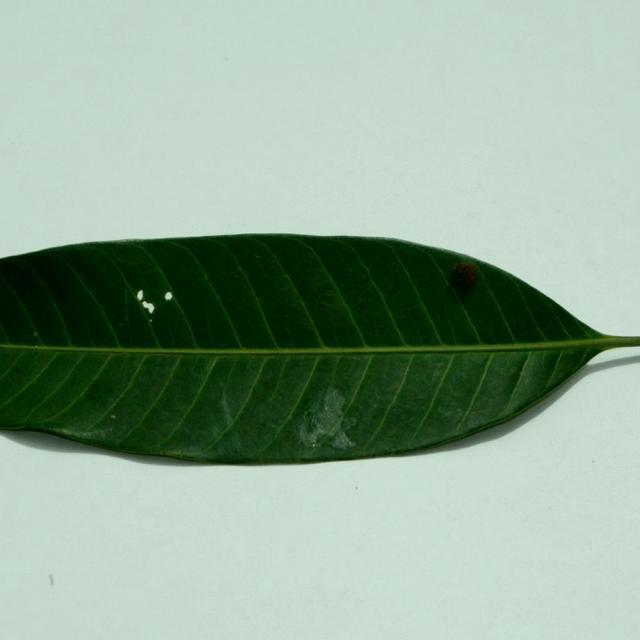Anthracnose: (122, 288, 198, 329)
Mango: (0, 235, 639, 468)
